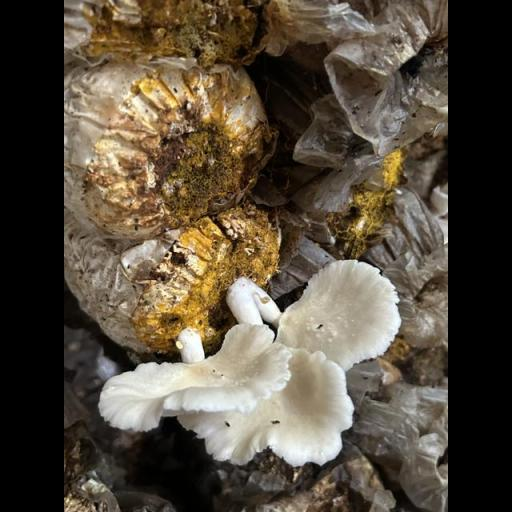White Oyster Mushroom: (89, 258, 402, 481)
